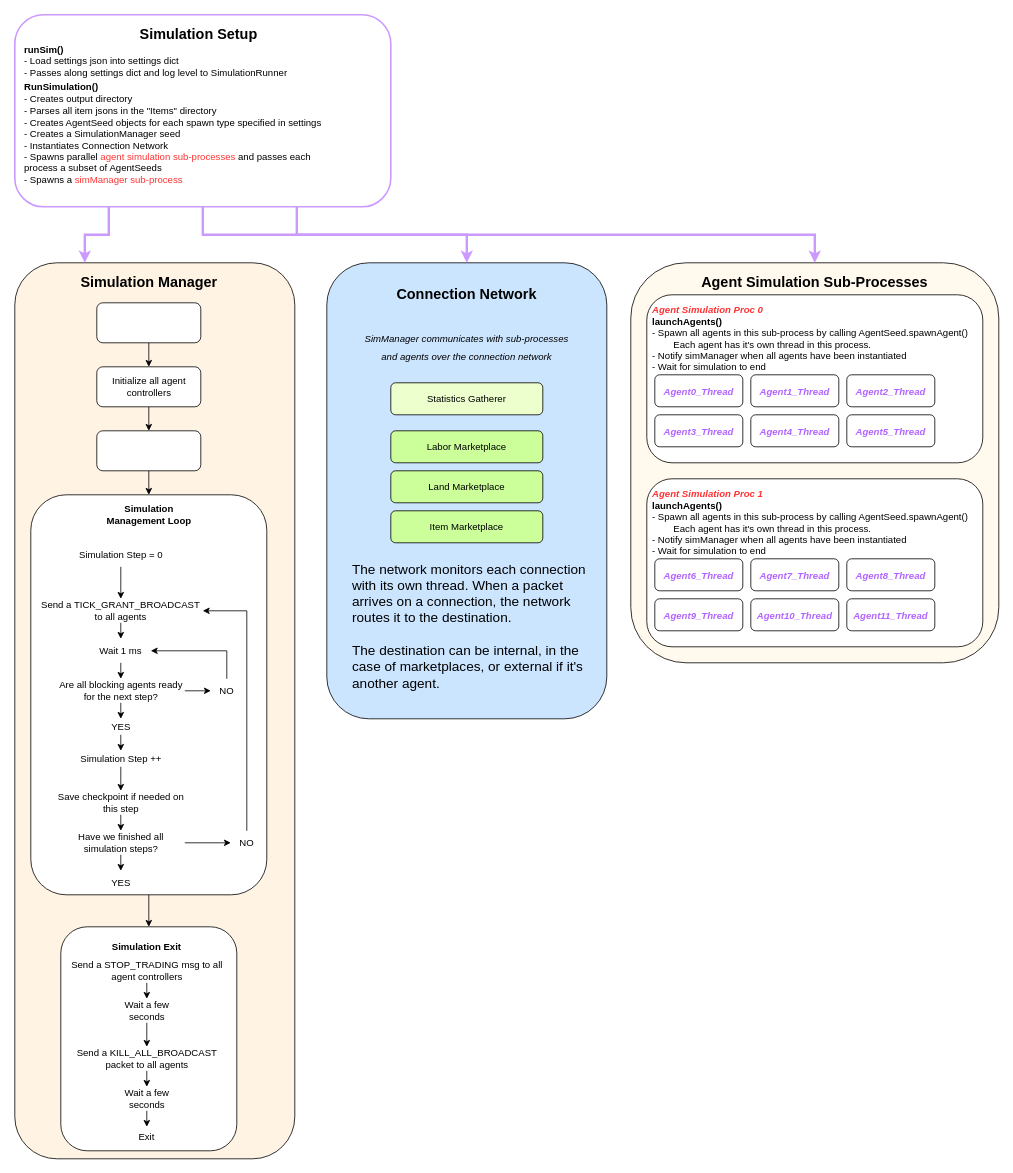
Some shapes in this 1013 by 1173 pixel diagram are drawn without their labels. Each missing label, with the centre of its shape:
"Load checkpoint if specified" goes at point (148, 450).
"Wait for all agents to be instantiated" goes at point (148, 322).
